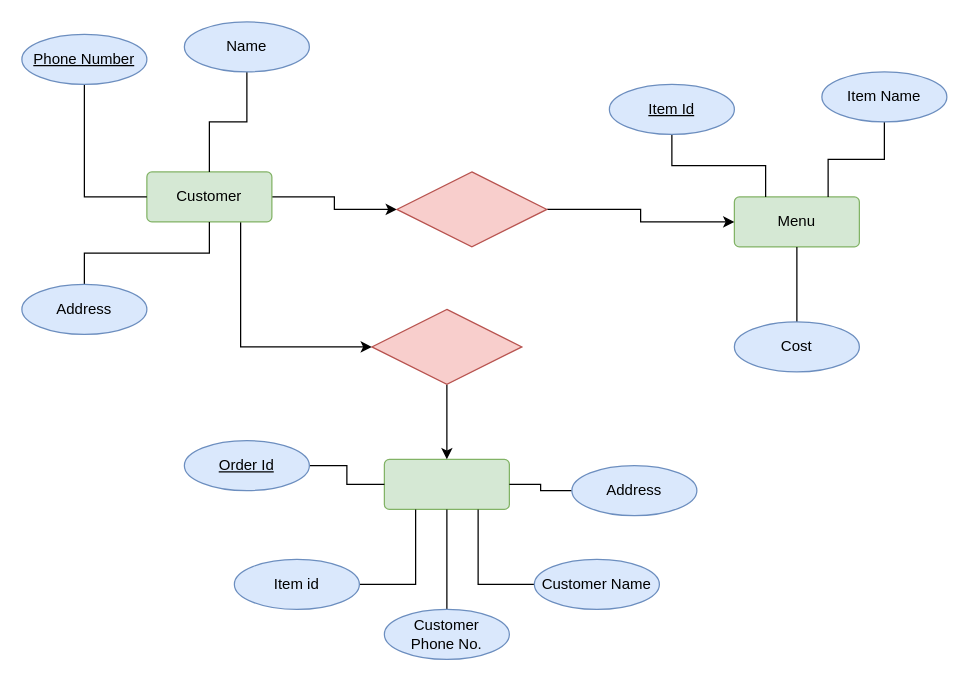
The diagram is 969 pixels wide and 681 high, and some of its shapes have lost their labels. The centre of each missing label's shape, as x and y in pixels:
Browse: (471,209)
Order: (446,346)
Orders: (446,483)
